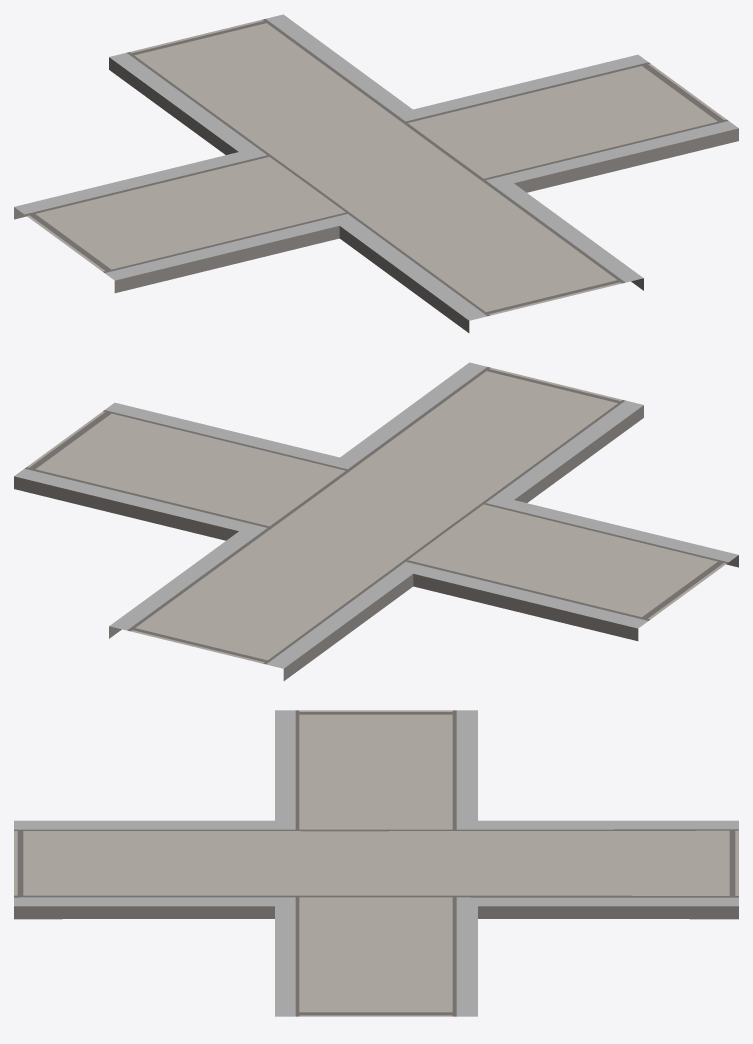
File: SA_Env_Path_Cross_mesh.gltf
3 views of the same model, one above another, from view 1: azimuth 30°, elevation 25°; view 2: azimuth 150°, elevation 25°; view 3: azimuth 270°, elevation 25° (orthographic).
Visible parts, largest first — view 1: SA_Env_Path_Cross_mesh; view 2: SA_Env_Path_Cross_mesh; view 3: SA_Env_Path_Cross_mesh.
Boxes of the visible parts, box(x1,y1,x2,y2) form: SA_Env_Path_Cross_mesh: box(14, 14, 738, 332); SA_Env_Path_Cross_mesh: box(14, 362, 738, 680); SA_Env_Path_Cross_mesh: box(14, 710, 738, 1016).
Size of the model in its own units: 10 by 0.1948 by 10.
1 material, 1 textured.
